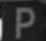Parking: (2, 1, 41, 36)
